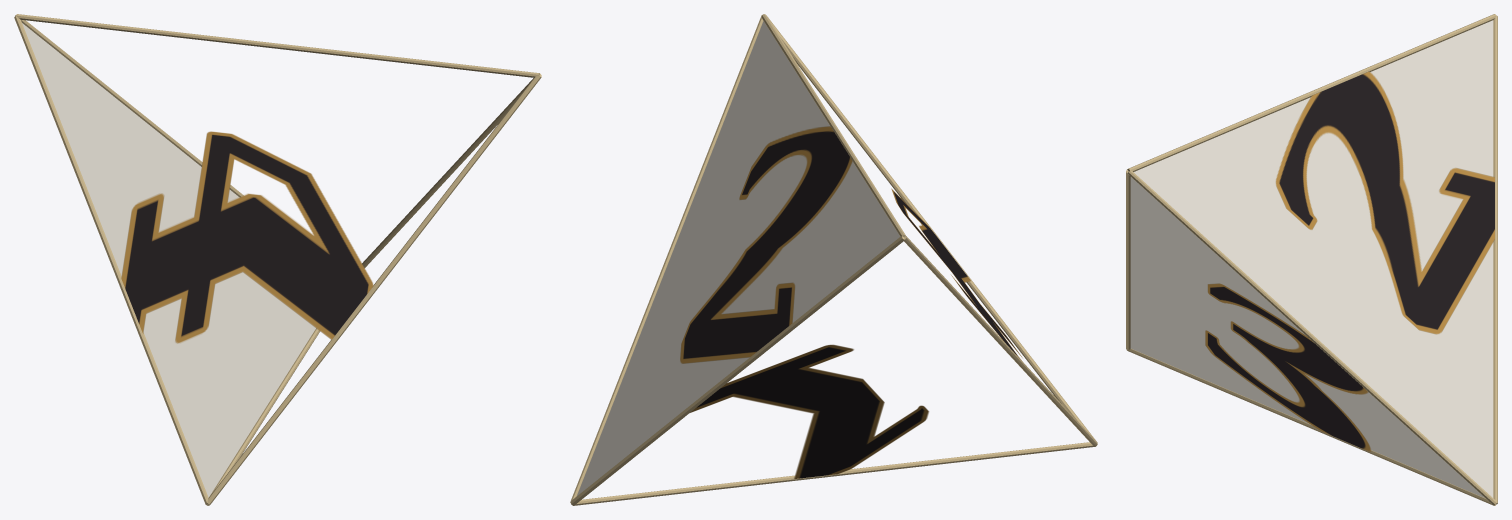
3 views of the same model, side by side, from view 1: azimuth 30°, elevation 25°; view 2: azimuth 150°, elevation 25°; view 3: azimuth 270°, elevation 25° (orthographic). The views are drawn at different scales.
Visible parts, largest first — view 1: DiceBody, FaceLabel_0_4, GoldEdgeTrim; view 2: DiceBody, GoldEdgeTrim, FaceLabel_3_2, FaceLabel_2_1, FaceLabel_0_4; view 3: DiceBody, FaceLabel_3_2, GoldEdgeTrim, FaceLabel_1_3.
Part boxes in pixels (x1,y1,x2,y2): DiceBody: (22, 23, 315, 497); FaceLabel_0_4: (121, 131, 373, 343); GoldEdgeTrim: (14, 14, 541, 505); DiceBody: (577, 21, 900, 495); GoldEdgeTrim: (570, 14, 1097, 505); FaceLabel_3_2: (680, 126, 852, 363); FaceLabel_2_1: (690, 344, 928, 478); FaceLabel_0_4: (891, 188, 1022, 360); DiceBody: (1130, 20, 1493, 498); FaceLabel_3_2: (1275, 71, 1494, 334); GoldEdgeTrim: (1126, 14, 1497, 505); FaceLabel_1_3: (1205, 283, 1370, 451).
Bounding box in the file's own units: 1.17 × 1.17 × 1.17.
4 materials, 4 textured.
